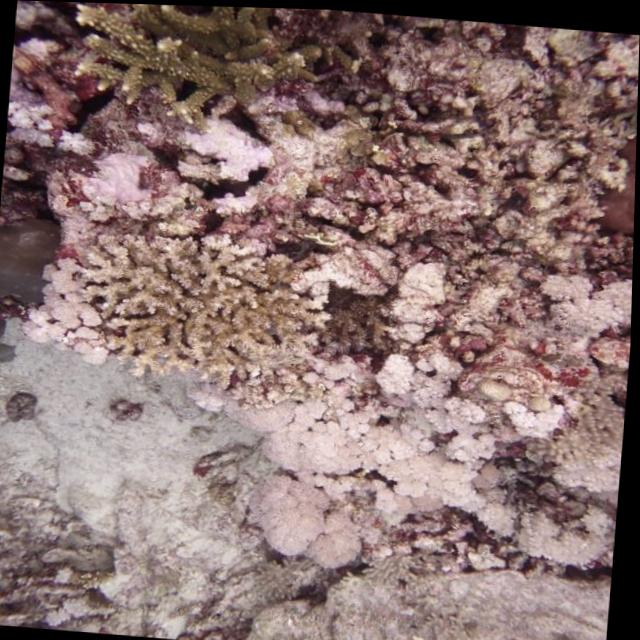Bleached Coral: (245, 372, 463, 578), (426, 376, 626, 586), (297, 232, 453, 390), (143, 98, 287, 223), (505, 247, 635, 381), (5, 238, 135, 368), (41, 125, 179, 242)
Healthy Coral: (69, 2, 297, 108)
